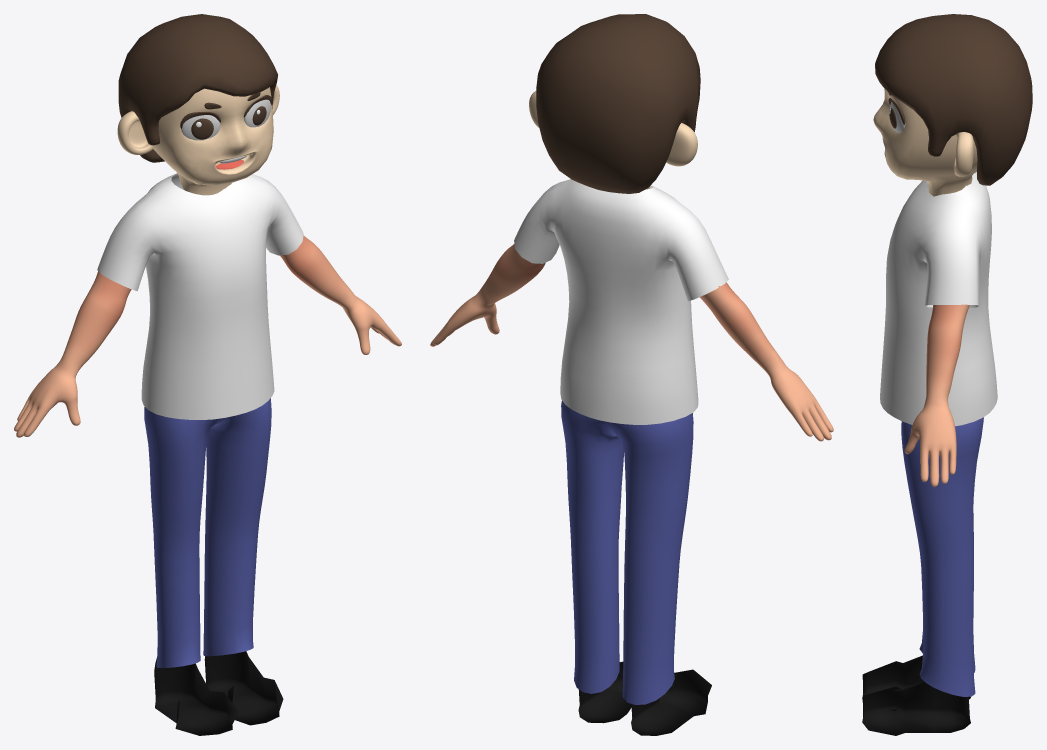
File: boyplayer.fbx
3 renders of one model, left to right at view 1: azimuth 30°, elevation 25°; view 2: azimuth 150°, elevation 25°; view 3: azimuth 270°, elevation 25°, orthographic. The views are drawn at different scales.
Parts seen in each view (by area): view 1: 上衣, 褲子, 頭髮, 手, Shoes, 人頭, 右耳, 眼珠; view 2: 上衣, 褲子, 頭髮, 手, Shoes, 右耳; view 3: 上衣, 頭髮, 褲子, 手, Shoes, 人頭, 左耳.
Part boxes in pixels (x1=…): 上衣: x1=97, y1=173, x2=303, y2=419; 褲子: x1=144, y1=398, x2=271, y2=668; 頭髮: x1=118, y1=14, x2=277, y2=162; 手: x1=14, y1=235, x2=401, y2=437; Shoes: x1=154, y1=651, x2=283, y2=735; 人頭: x1=152, y1=87, x2=273, y2=195; 右耳: x1=117, y1=111, x2=153, y2=154; 眼珠: x1=181, y1=99, x2=270, y2=140; 上衣: x1=514, y1=179, x2=728, y2=424; 褲子: x1=561, y1=400, x2=693, y2=704; 頭髮: x1=536, y1=14, x2=700, y2=193; 手: x1=430, y1=244, x2=833, y2=441; Shoes: x1=578, y1=661, x2=711, y2=735; 右耳: x1=666, y1=123, x2=697, y2=166; 上衣: x1=880, y1=172, x2=997, y2=426; 頭髮: x1=875, y1=14, x2=1032, y2=185; 褲子: x1=901, y1=417, x2=983, y2=696; 手: x1=904, y1=304, x2=969, y2=486; Shoes: x1=862, y1=655, x2=970, y2=735; 人頭: x1=873, y1=88, x2=977, y2=196; 左耳: x1=953, y1=132, x2=973, y2=176.
Bounding box in the file's own units: 399 × 670 × 150.
